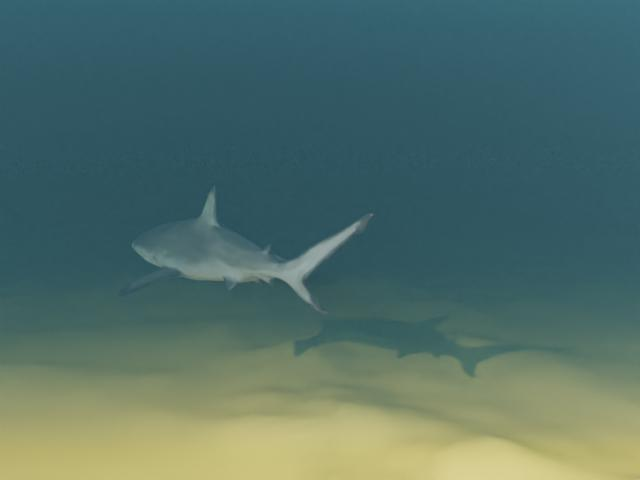Carribean Shark.001: (118, 185, 373, 314)
